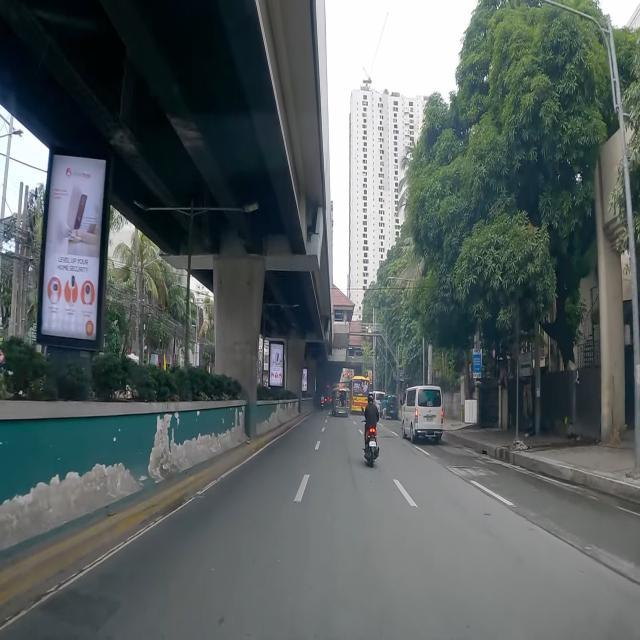bus: (348, 377, 370, 412)
car: (401, 385, 444, 442), (385, 395, 398, 418), (372, 391, 386, 412)
jeepney: (332, 388, 350, 416)
motorcycle: (363, 393, 379, 466), (320, 394, 324, 410)
